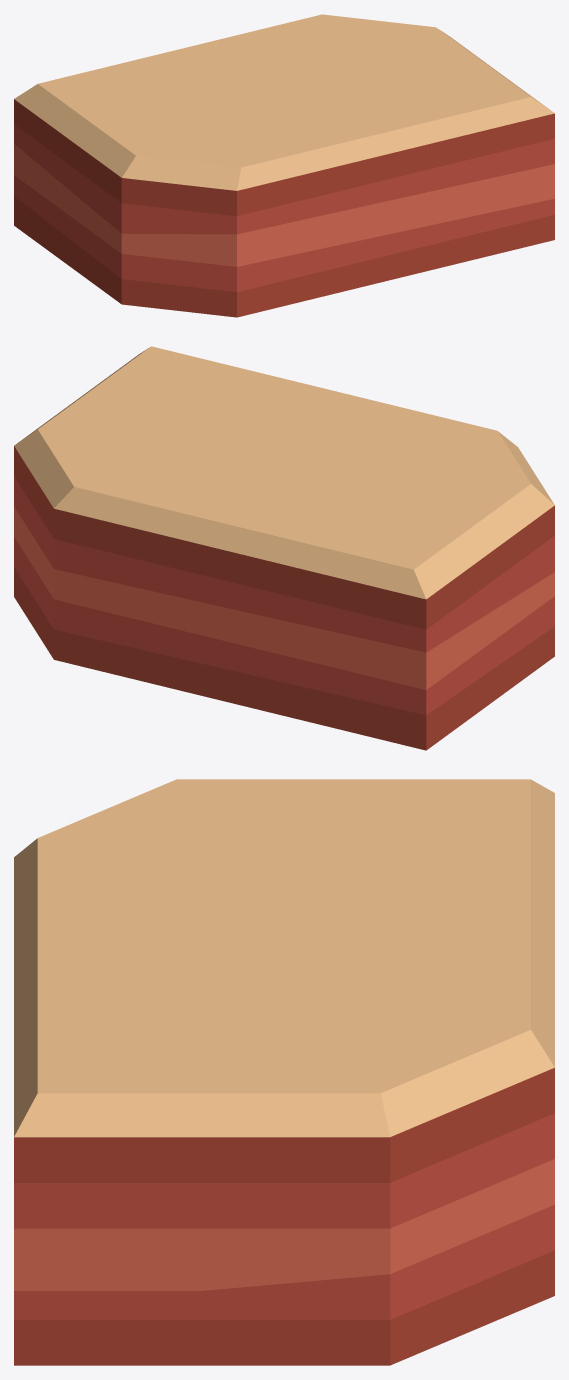
File: StoneWall010.fbx
3 views of the same model, one above another, from view 1: azimuth 30°, elevation 25°; view 2: azimuth 150°, elevation 25°; view 3: azimuth 270°, elevation 25° (orthographic). The views are drawn at different scales.
Parts seen in each view (by area): view 1: StoneWall010; view 2: StoneWall010; view 3: StoneWall010.
Boxes of the visible parts, x1=… form: StoneWall010: x1=14, y1=14, x2=554, y2=317; StoneWall010: x1=14, y1=346, x2=554, y2=750; StoneWall010: x1=14, y1=779, x2=554, y2=1365.
Size of the model in its own units: 533 by 186 by 354.
